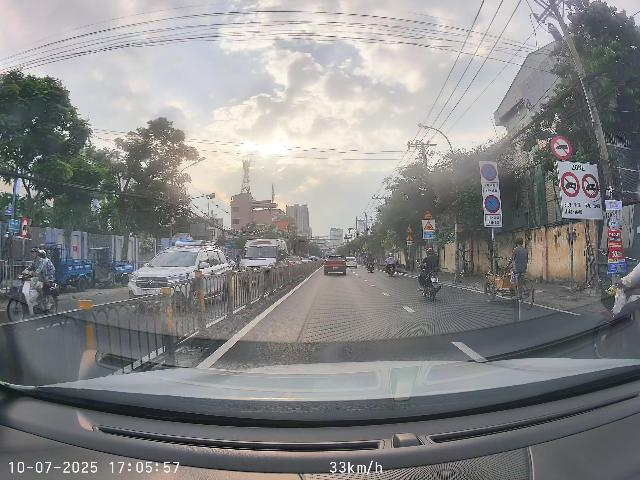106-cam-oto-tai: (561, 171, 580, 198), (582, 173, 599, 198)
130-cam-dung-va-do-xe: (481, 163, 497, 181)
131a-cam-do-xe: (484, 194, 500, 213)
225-chu-y-tre-em: (423, 220, 434, 231)
